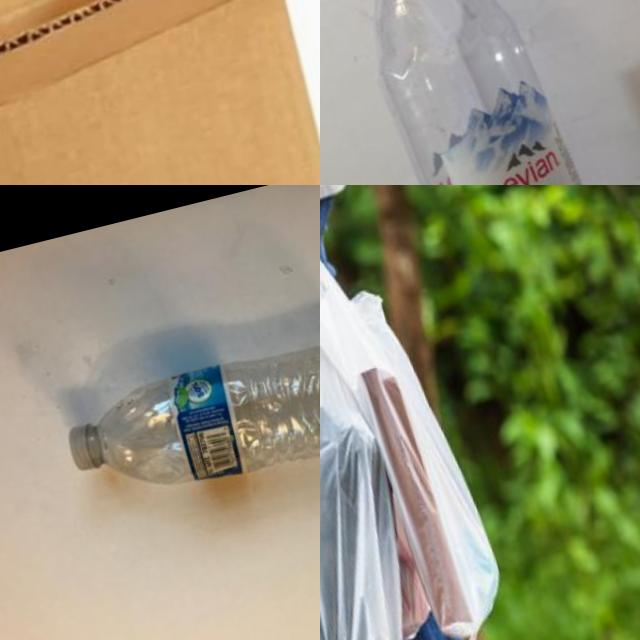garrafa plástica: (0, 0, 320, 185), (349, 0, 599, 185), (87, 319, 320, 512)
sacola plástica: (320, 195, 546, 640), (320, 205, 451, 640)
tampa plástica: (65, 418, 102, 474)
